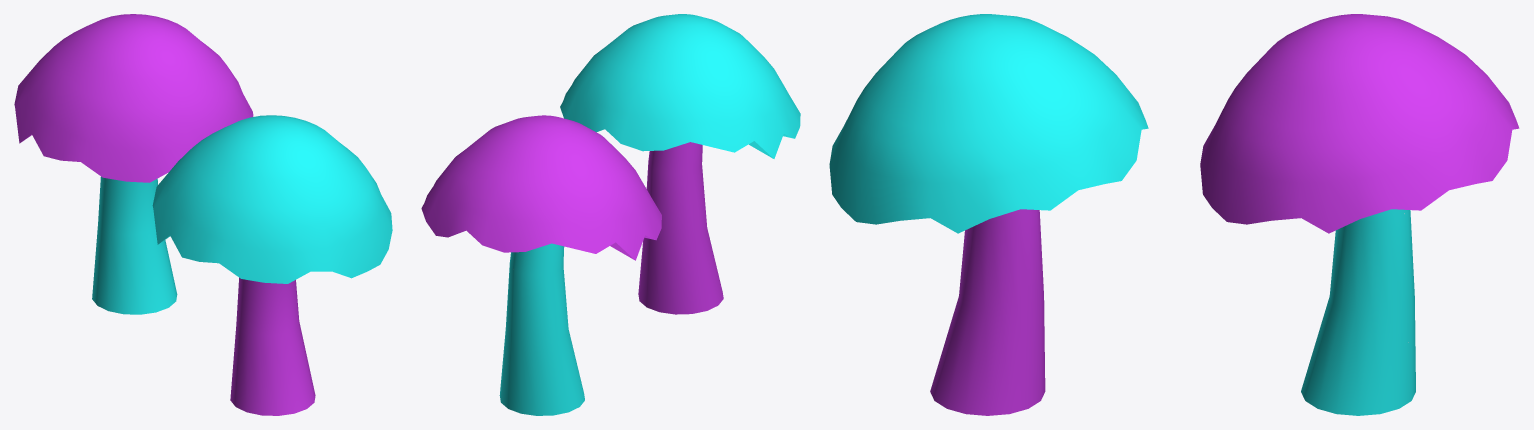
File: SceneMushrooms.fbx
3 renders of one model, left to right at view 1: azimuth 30°, elevation 25°; view 2: azimuth 150°, elevation 25°; view 3: azimuth 270°, elevation 25°, orthographic. The views are drawn at different scales.
Visible parts, largest first — view 1: Sphere.004, Sphere.002, Cylinder.001, Cylinder.010; view 2: Sphere.002, Sphere.004, Cylinder.010, Cylinder.001; view 3: Sphere.004, Sphere.002, Cylinder.001, Cylinder.010.
Part boxes in pixels (x1,y1,x2,y2): Sphere.004: [152, 115, 392, 283]; Sphere.002: [14, 14, 253, 182]; Cylinder.001: [230, 277, 315, 415]; Cylinder.010: [92, 176, 177, 314]; Sphere.002: [421, 115, 661, 260]; Sphere.004: [560, 14, 800, 158]; Cylinder.010: [499, 243, 584, 415]; Cylinder.001: [638, 142, 723, 314]; Sphere.004: [829, 14, 1148, 233]; Sphere.002: [1200, 14, 1519, 233]; Cylinder.001: [930, 209, 1045, 415]; Cylinder.010: [1301, 209, 1415, 415].
Bounding box in the file's own units: 44.93 × 56.2 × 95.92.
